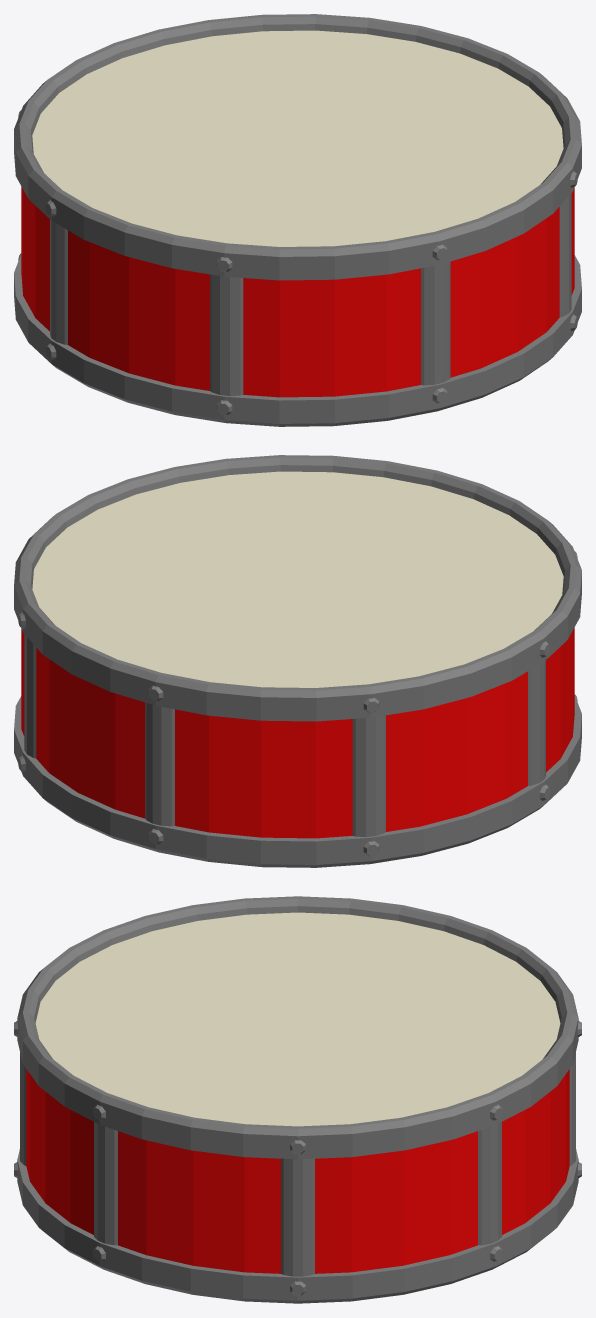
The model's file is Small_Drum.fbx.
3 renders of one model, top to bottom at view 1: azimuth 30°, elevation 25°; view 2: azimuth 150°, elevation 25°; view 3: azimuth 270°, elevation 25°, orthographic.
Visible parts, largest first — view 1: Small__Drum; view 2: Small__Drum; view 3: Small__Drum.
Part boxes in pixels (x1,y1,x2,y2): Small__Drum: (14,14,581,426); Small__Drum: (14,455,581,867); Small__Drum: (14,896,581,1303).
Bounding box in the file's own units: 194 × 65.76 × 194.
1 material, 1 textured.
